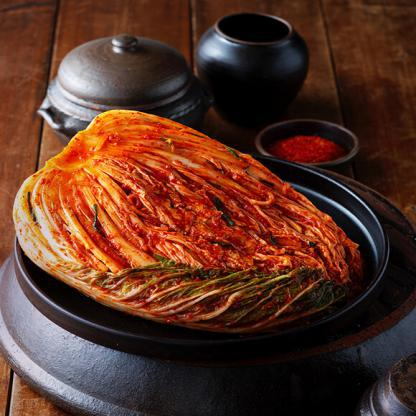kimchi: (9, 107, 366, 327)
